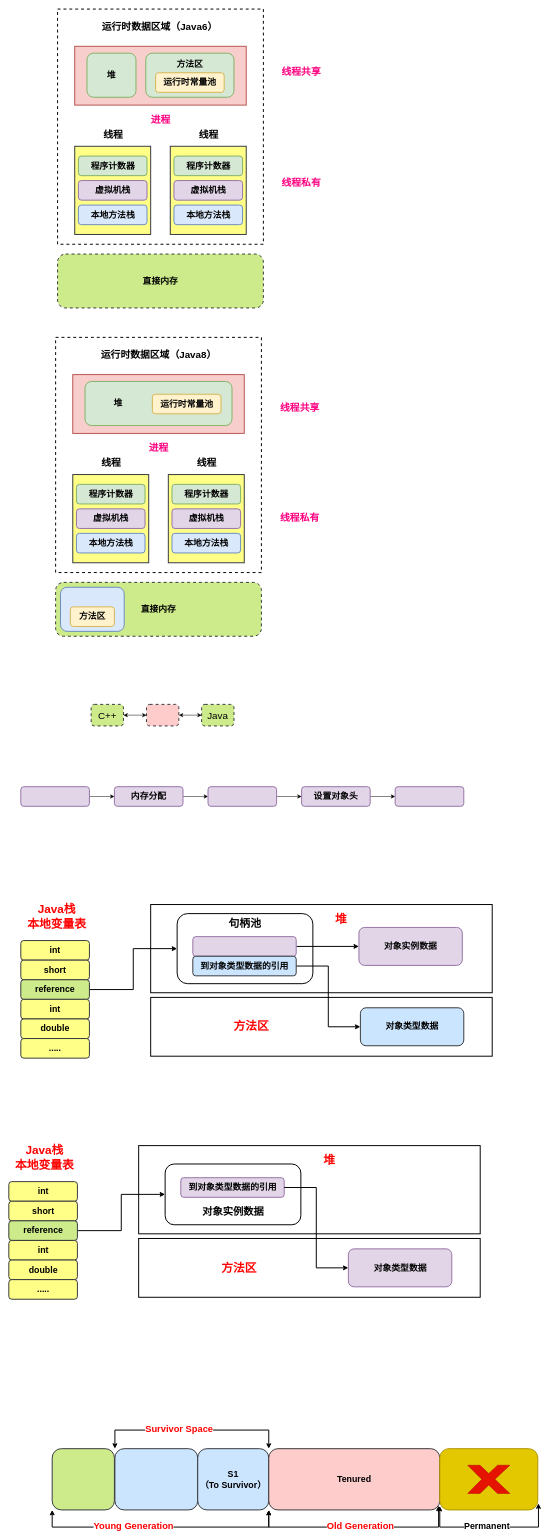
The diagram is 552 pixels wide and 1540 high, and some of its shapes have lost their labels. Each missing label, with the box of its shape:
Eden （伊甸区）: (51, 1448, 115, 1510)
JNI: (146, 704, 179, 726)
S0 （From Survivor）: (114, 1448, 198, 1510)
元空间: (60, 587, 124, 632)
初始化零值: (207, 786, 277, 807)
到对象实例数据的引用: (192, 936, 296, 956)
执行init方法: (394, 786, 464, 807)
类加载检查: (20, 786, 90, 807)
